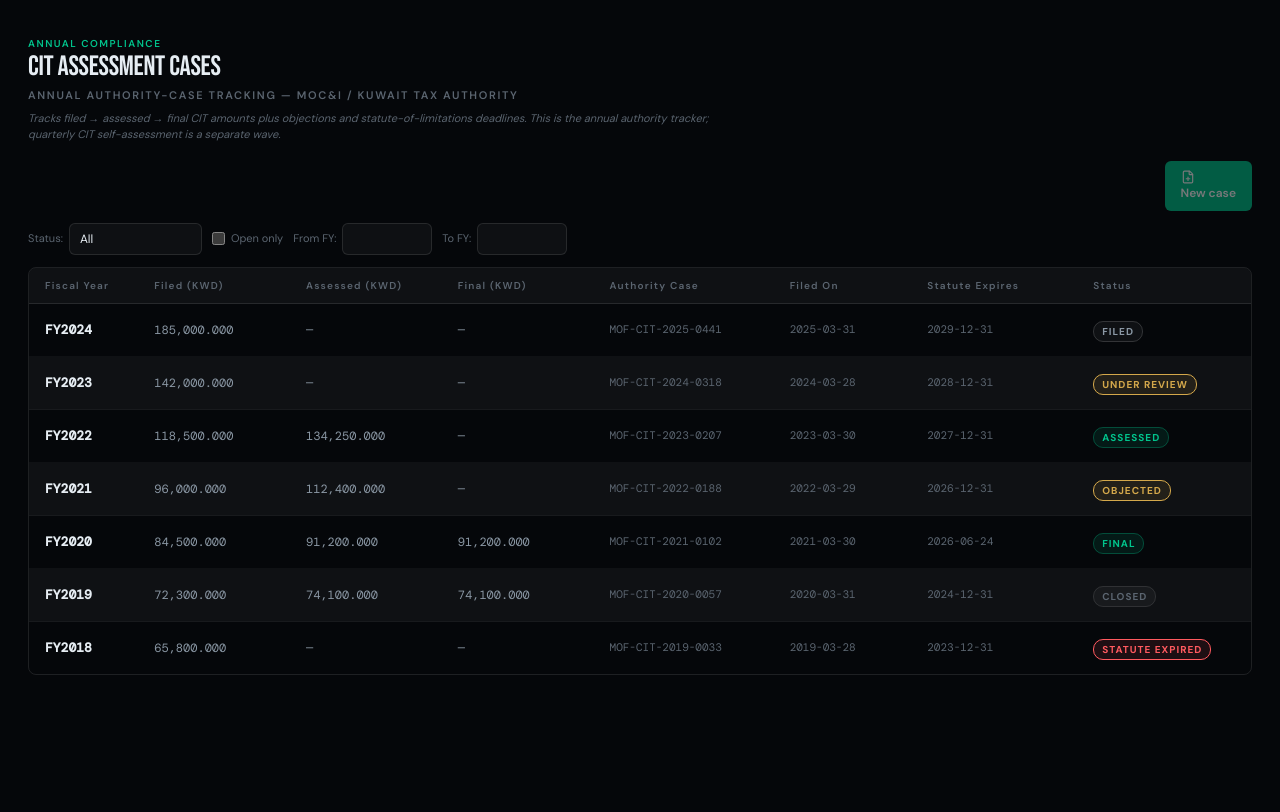
Test: CITAssessmentScreen — per-case detail › non-Owner sees all transition buttons present but disabled with tooltip
Click the button with aria-label "Open case".
click(640, 436)  # box [29,410,1251,462]
(page scrolled)
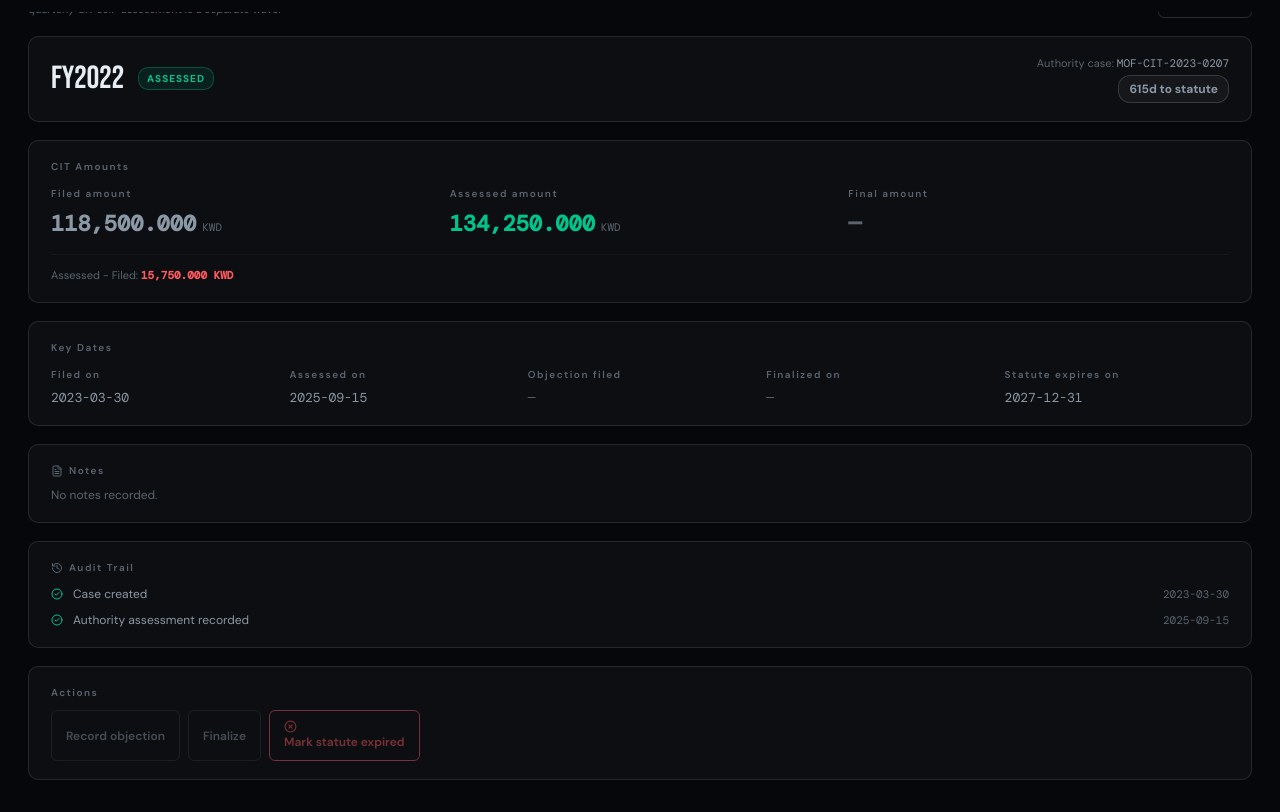
Now the element with test id "cit-detail-view" is shown
Now the button with test id "cit-action-finalize" is disabled, box [188,710,261,761]
Now the button with test id "cit-action-record-objection" is disabled, box [51,710,180,761]
